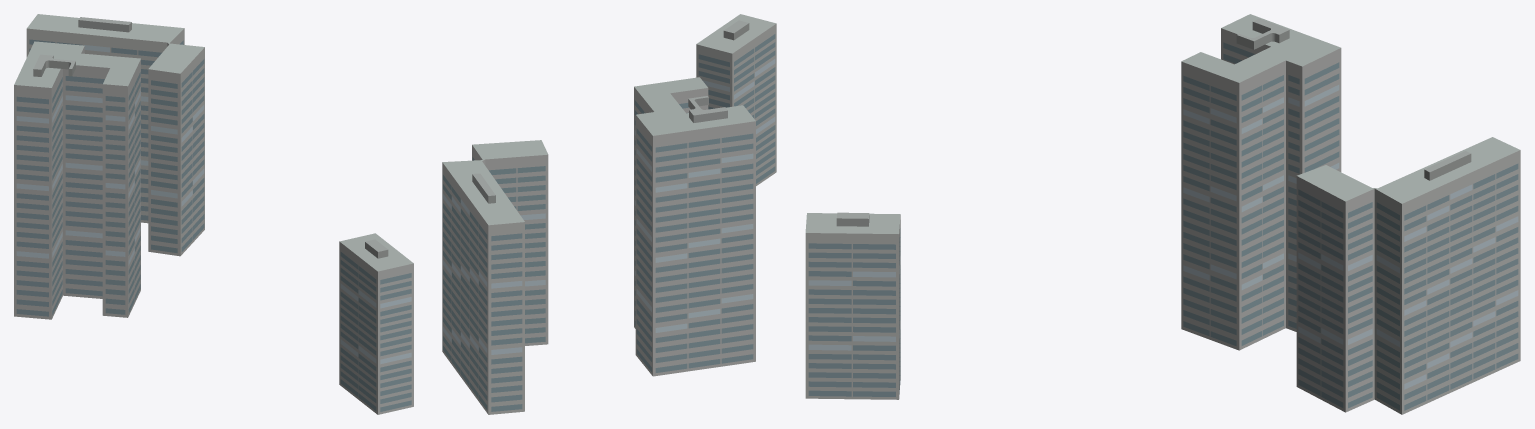
The model's file is apt-a15676701.glb.
The picture shows the model from 3 angles, left to right: view 1: azimuth 30°, elevation 25°; view 2: azimuth 150°, elevation 25°; view 3: azimuth 270°, elevation 25°; orthographic projection. The views are drawn at different scales.
Parts seen in each view (by area): view 1: apt-a15676701; view 2: apt-a15676701; view 3: apt-a15676701.
Boxes of the visible parts, x1,y1,x2,y2 form: apt-a15676701: [14, 14, 413, 414]; apt-a15676701: [442, 14, 776, 414]; apt-a15676701: [805, 14, 1520, 414].
Size of the model in its own units: 80.74 by 78 by 183.
